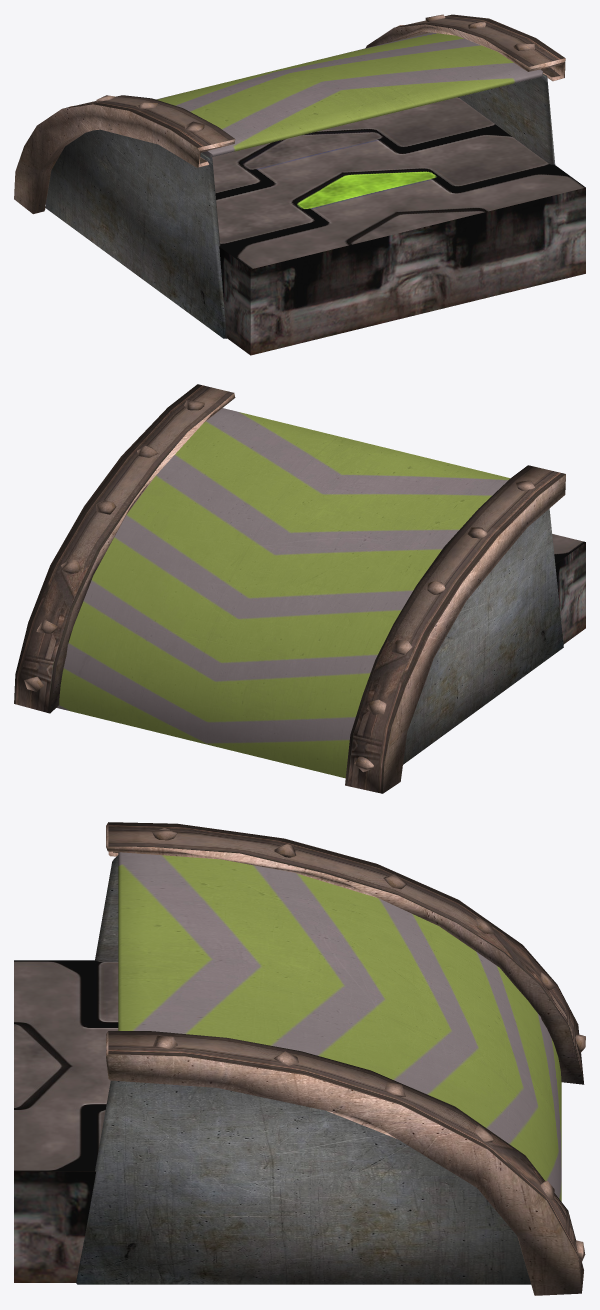
Rendered from turbo-underground-belt-output.glb.
3 renders of one model, top to bottom at view 1: azimuth 30°, elevation 25°; view 2: azimuth 150°, elevation 25°; view 3: azimuth 270°, elevation 25°, orthographic. The views are drawn at different scales.
Visible parts, largest first — view 1: body; view 2: body; view 3: body.
Boxes of the visible parts, bbox=[...] form: body: bbox=[14, 14, 585, 355]; body: bbox=[14, 384, 585, 793]; body: bbox=[14, 822, 585, 1295].
Bounding box in the file's own units: 0.9911 × 0.4859 × 1.03.
7 materials, 6 textured.
